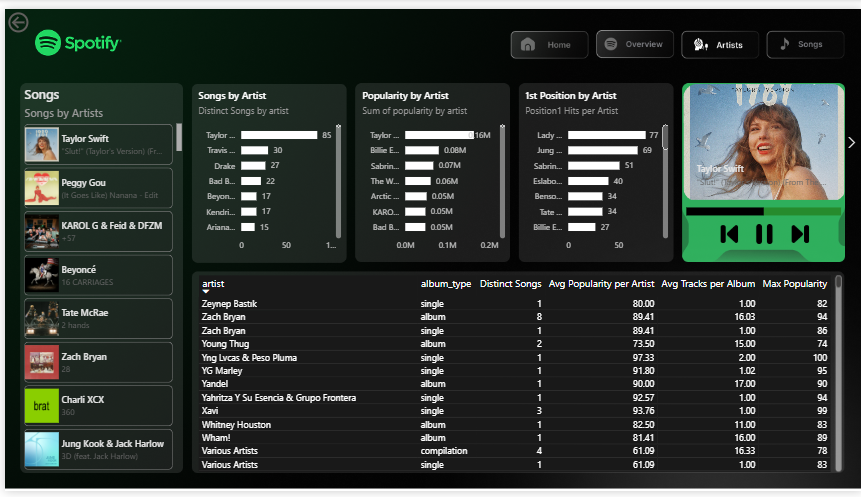

The dashboard page shown, as its layout file describes it:
{"tool":"powerbi","page":{"name":"Artists","canvas":[1280,720],"ordinal":2},"visuals":[{"type":"actionButton","box":[755.9,30.9,116.2,45.6],"z":0},{"type":"actionButton","box":[883.8,30.9,116.2,45.6],"z":1000},{"type":"actionButton","box":[1010.3,30.9,116.2,45.6],"z":2000},{"type":"actionButton","box":[1136.8,30.9,116.2,45.6],"z":3000},{"type":"hundredPercentStackedBarChart","fields":{"Y":["_Measures.Avg Popularity","Avg(Top-50-World.popularity)"]},"box":[1011.8,266.8,241.4,62.9],"z":4000},{"type":"image","box":[1061.8,321.1,40,30],"z":5000},{"type":"image","box":[1113.2,321.1,40,30],"z":6000},{"type":"image","box":[1167.5,321.1,40,30],"z":7000},{"type":"advancedSlicerVisual","title":"Songs","fields":{"Values":["Top-50-World.song"]},"box":[986.8,105.9,292.6,185.3],"z":8000},{"type":"advancedSlicerVisual","title":"Songs","fields":{"Values":["Top-50-World.song"]},"box":[23.5,114.7,245.6,579.4],"z":9000},{"type":"shape","box":[1013.2,110.3,245.6,270.6],"z":10000},{"type":"actionButton","box":[0,0,100,40],"z":11000},{"type":"tableEx","fields":{"Values":["Top-50-World.artist","Top-50-World.album_type","_Measures.Distinct Songs","_Measures.Avg Popularity per Artist","_Measures.Avg Tracks per Album","_Measures.Max Popularity"]},"box":[284.1,392.8,969.6,302.9],"z":12000},{"type":"clusteredBarChart","title":"Songs by Artist","fields":{"Y":["_Measures.Distinct Songs"],"Category":["Top-50-World.artist"]},"box":[283.3,118.3,223.3,253.3],"z":13000},{"type":"clusteredBarChart","title":"Popularity by Artist","fields":{"Category":["Top-50-World.artist"],"Y":["Sum(Top-50-World.popularity)"]},"box":[528.3,118.3,223.3,253.3],"z":14000},{"type":"clusteredBarChart","title":"1st Position by Artist","fields":{"Y":["_Measures.Position1 Songs"],"Category":["Top-50-World.artist"]},"box":[771.7,118.3,223.3,253.3],"z":15000}]}

Visuals, with their boxes in screenshot pixels (x1, y1, x2, y2), scaled from the page's 1280x720 canvas onto the 861x497 screenshot:
actionButton: [x1=508, y1=21, x2=587, y2=53]
actionButton: [x1=594, y1=21, x2=673, y2=53]
actionButton: [x1=680, y1=21, x2=758, y2=53]
actionButton: [x1=765, y1=21, x2=843, y2=53]
hundredPercentStackedBarChart - _Measures.Avg Popularity x Avg(Top-50-World.popularity): [x1=681, y1=184, x2=843, y2=228]
image: [x1=714, y1=222, x2=741, y2=242]
image: [x1=749, y1=222, x2=776, y2=242]
image: [x1=785, y1=222, x2=812, y2=242]
"Songs" advancedSlicerVisual: [x1=664, y1=73, x2=860, y2=201]
"Songs" advancedSlicerVisual: [x1=16, y1=79, x2=181, y2=479]
shape: [x1=682, y1=76, x2=847, y2=263]
actionButton: [x1=0, y1=0, x2=67, y2=28]
tableEx - Top-50-World.artist x Top-50-World.album_type: [x1=191, y1=271, x2=843, y2=480]
"Songs by Artist" clusteredBarChart: [x1=191, y1=82, x2=341, y2=257]
"Popularity by Artist" clusteredBarChart: [x1=355, y1=82, x2=506, y2=257]
"1st Position by Artist" clusteredBarChart: [x1=519, y1=82, x2=669, y2=257]
